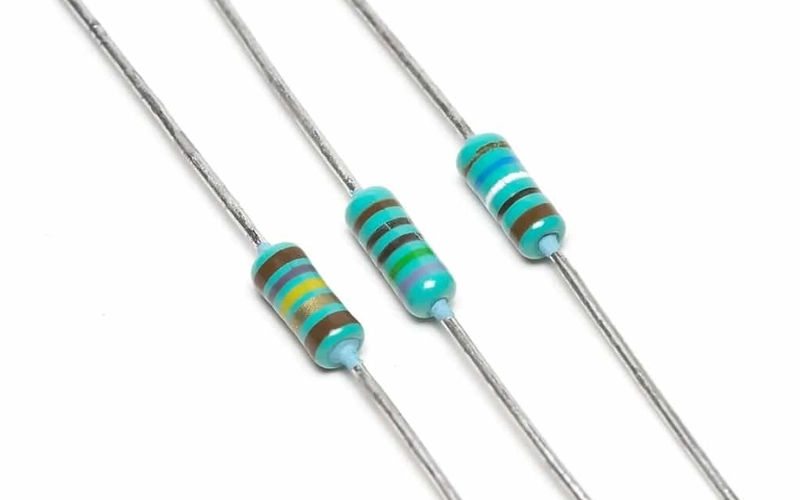resistor: (224, 213, 398, 401), (309, 157, 483, 345), (423, 102, 597, 290)
